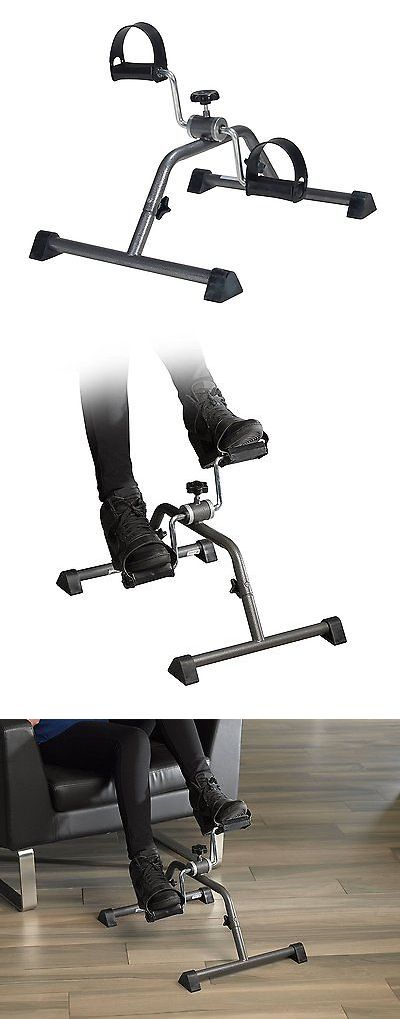gym_bike: (22, 26, 379, 309)
